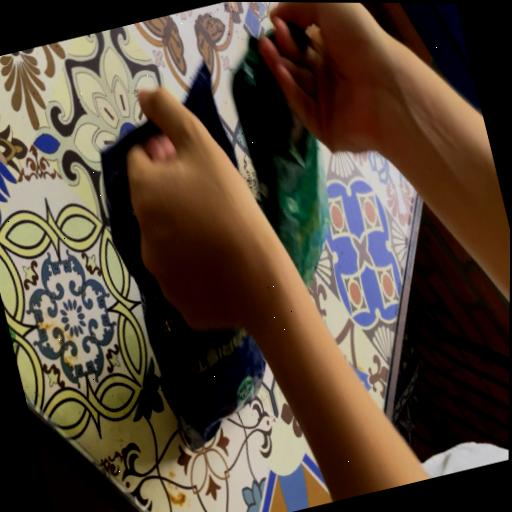cafe_hat: (100, 122, 265, 450), (184, 65, 235, 165)
cafe_xay: (232, 38, 329, 285)
